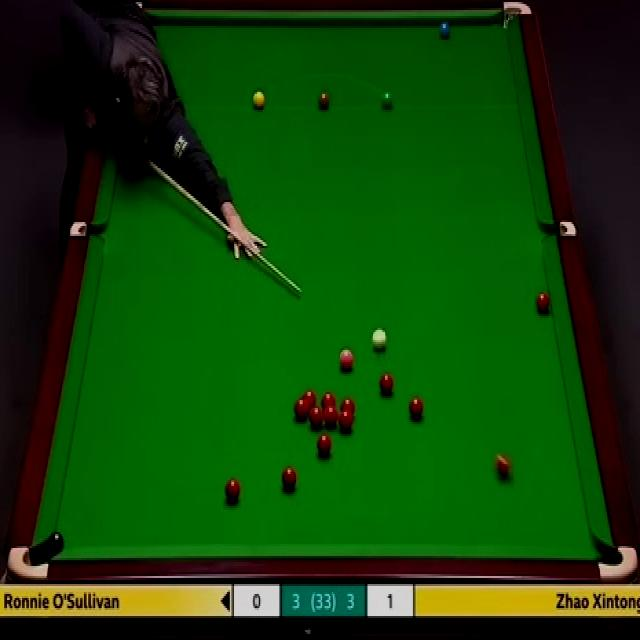pocket: (598, 544, 638, 583), (6, 544, 49, 579), (502, 2, 533, 32), (70, 221, 104, 240), (542, 222, 576, 240)
